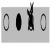correct: (16, 11, 22, 33)
no answer: (2, 11, 10, 34)
not correct: (26, 1, 35, 35)
